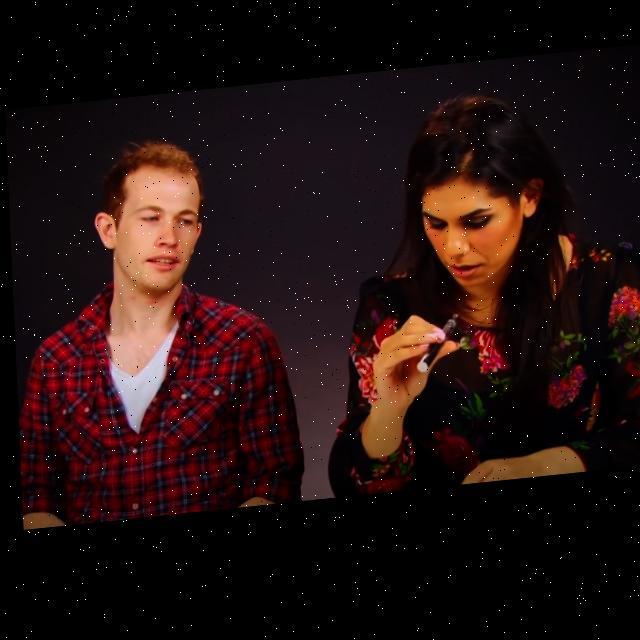vape: (411, 323, 458, 382)
